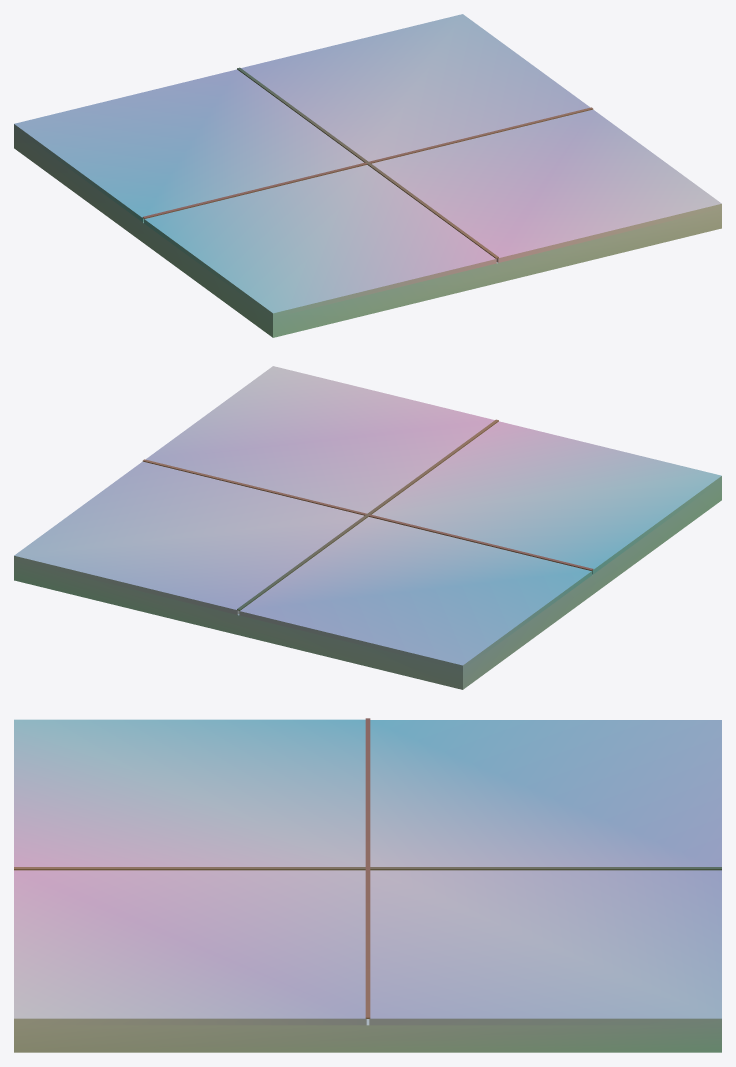
Rendered from palace_floor_4x4.glb.
3 views of the same model, one above another, from view 1: azimuth 30°, elevation 25°; view 2: azimuth 150°, elevation 25°; view 3: azimuth 270°, elevation 25° (orthographic). The views are drawn at different scales.
Parts seen in each view (by area): view 1: palace_floor, palace_floor_inlay; view 2: palace_floor, palace_floor_inlay; view 3: palace_floor, palace_floor_inlay.
Boxes of the visible parts, box(x1,y1,x2,y2) form: palace_floor: box(14, 14, 721, 337); palace_floor_inlay: box(142, 67, 593, 258); palace_floor: box(14, 366, 721, 689); palace_floor_inlay: box(142, 419, 593, 610); palace_floor: box(14, 719, 721, 1052); palace_floor_inlay: box(14, 718, 721, 1018).
Size of the model in its own units: 4 by 0.218 by 4.
